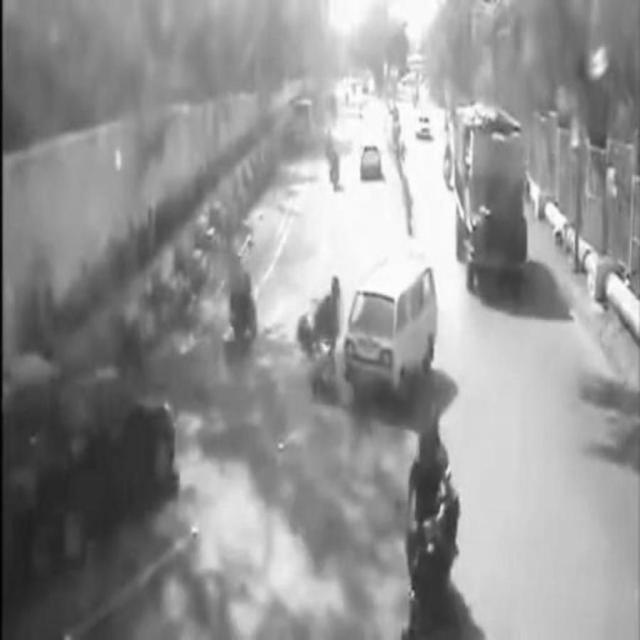accident: (300, 243, 442, 397)
vehicle: (391, 418, 481, 608), (453, 109, 541, 299), (216, 237, 262, 345)
